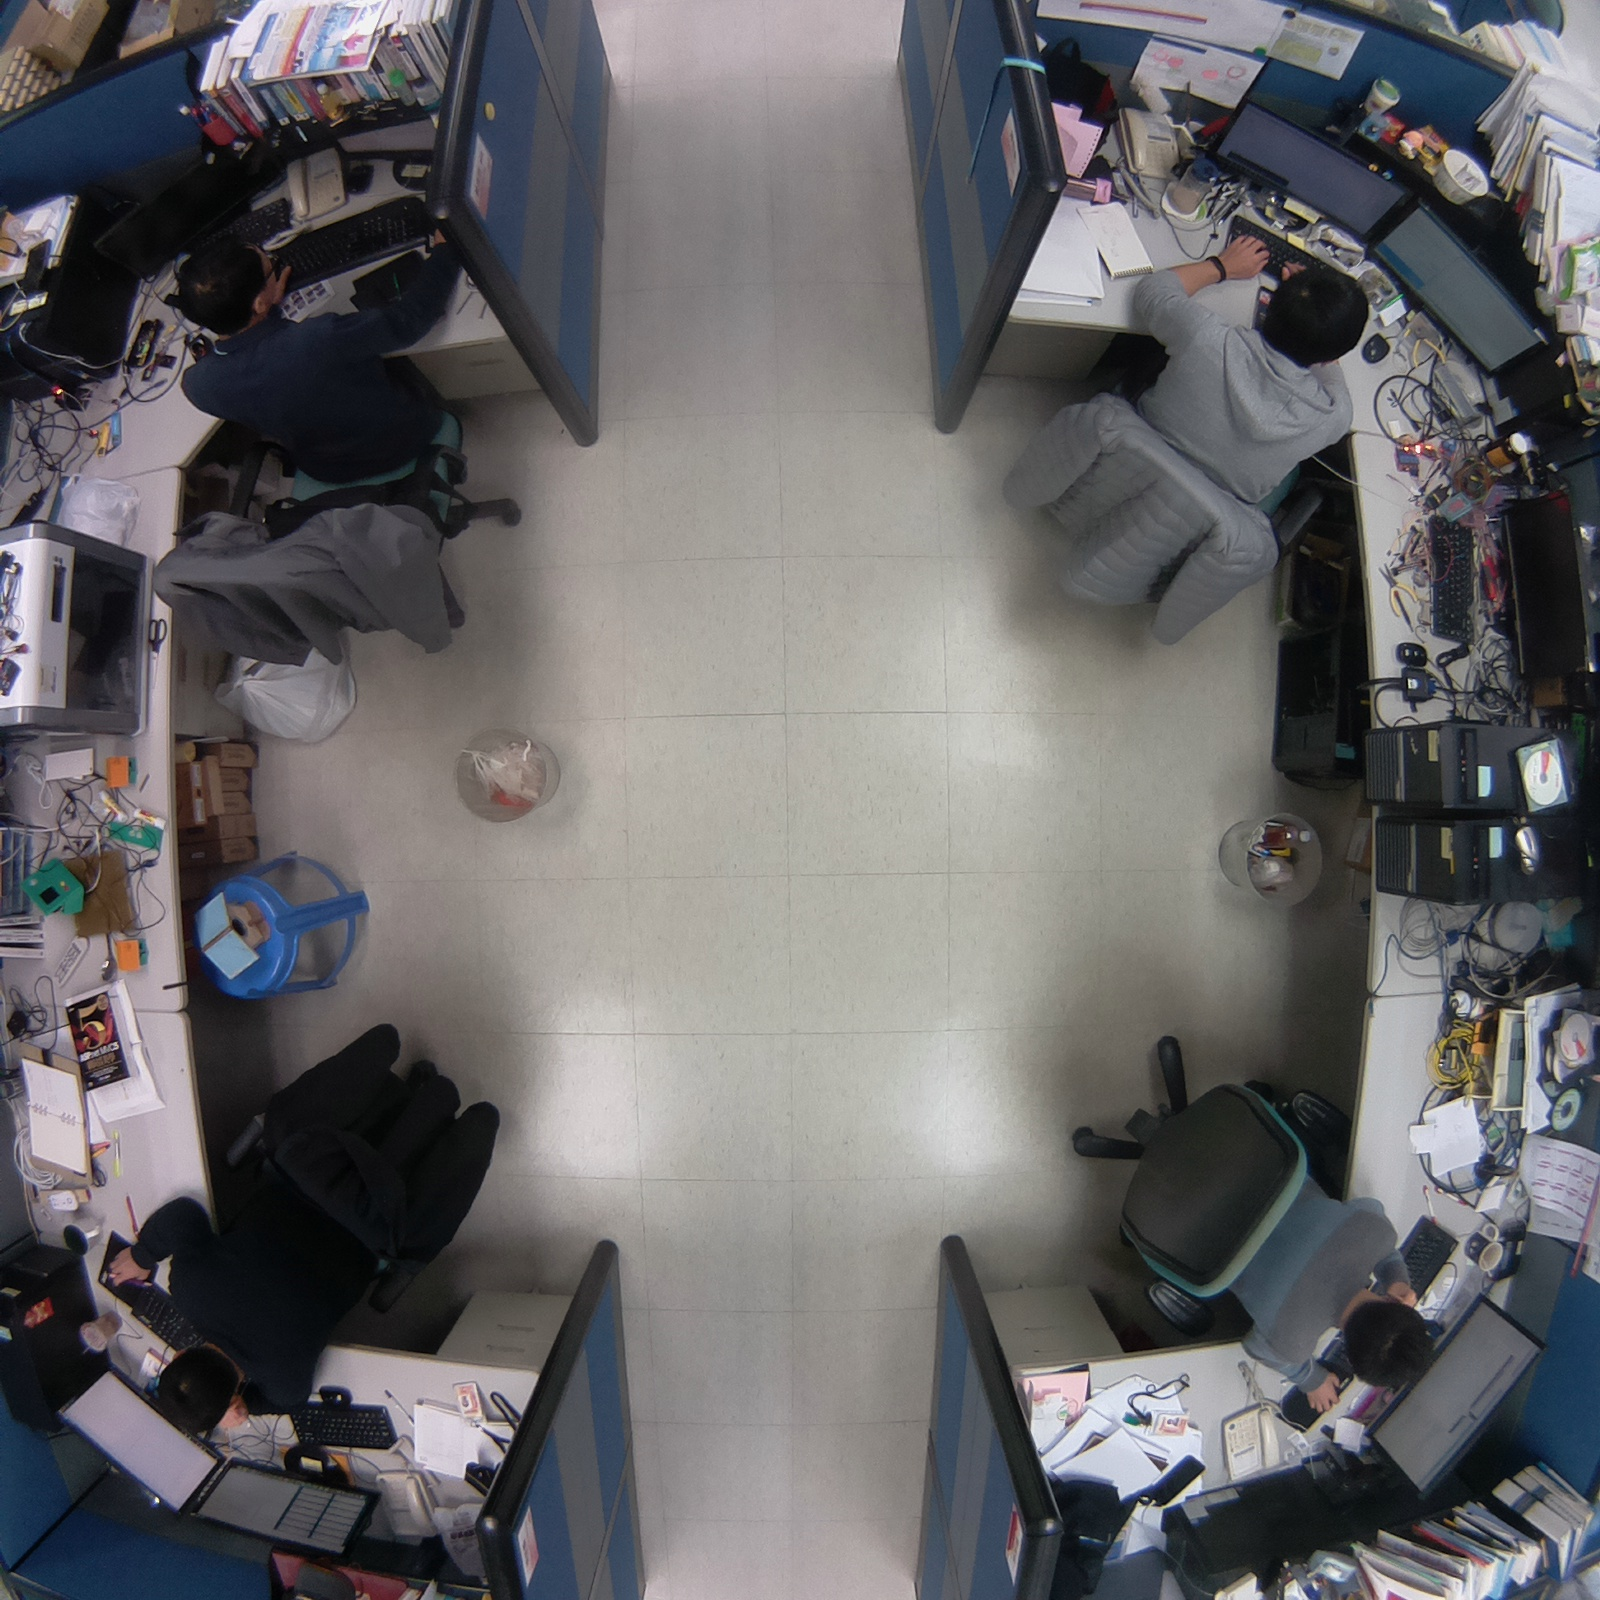head: (1327, 1280, 1444, 1402), (1251, 253, 1376, 368), (172, 236, 287, 340), (144, 1340, 251, 1440)
sitting: (104, 1004, 524, 1447), (140, 235, 555, 675), (991, 221, 1365, 663), (1058, 1014, 1433, 1424)
